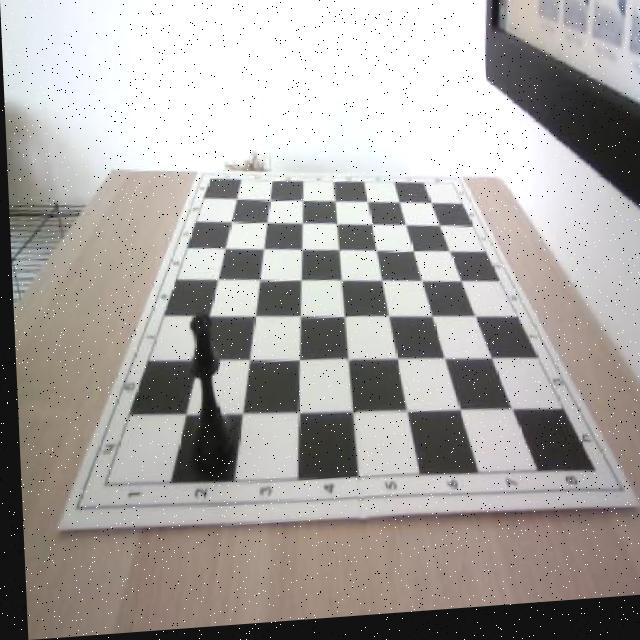black-pawn: (184, 314, 231, 480)
